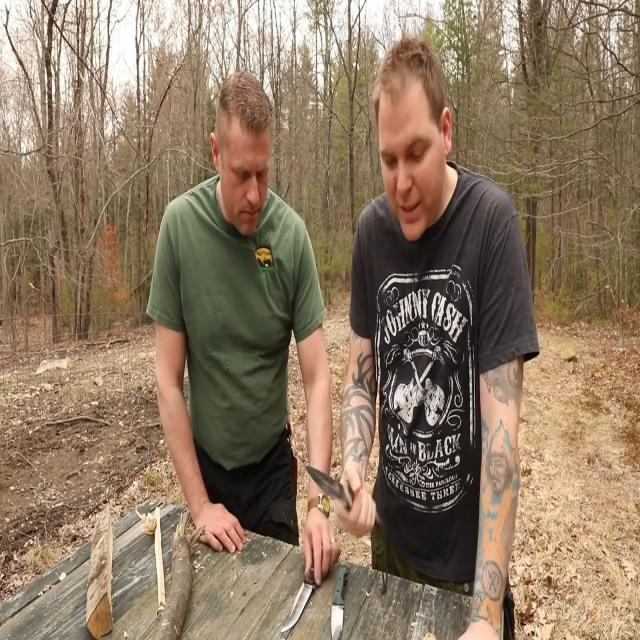faca: (300, 450, 385, 539)
